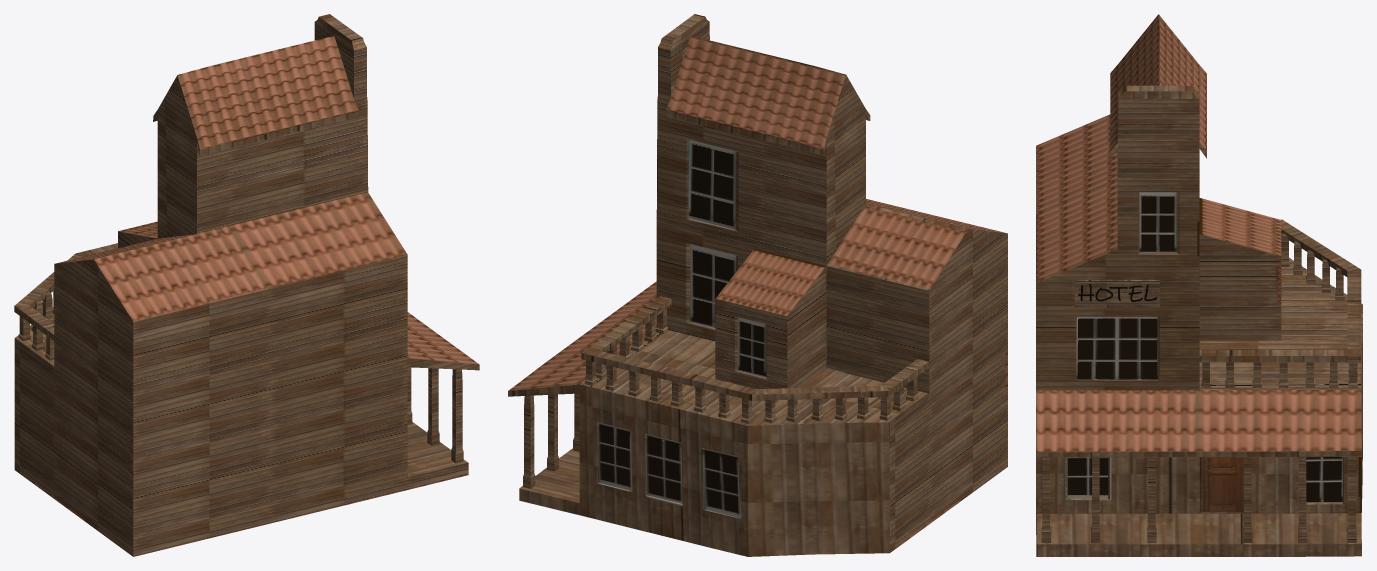
File: hotel.fbx
3 renders of one model, left to right at view 1: azimuth 30°, elevation 25°; view 2: azimuth 150°, elevation 25°; view 3: azimuth 270°, elevation 25°, orthographic. The views are drawn at different scales.
Parts seen in each view (by area): view 1: Cube; view 2: Cube; view 3: Cube.
Part boxes in pixels (<box>): Cube: <box>14,14,479,556</box>; Cube: <box>508,14,1007,556</box>; Cube: <box>1036,14,1362,556</box>.
Bounding box in the file's own units: 1176 × 1365 × 931.
1 material, 1 textured.
